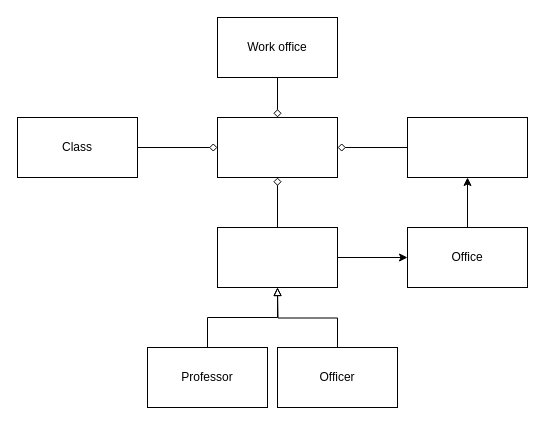
Some shapes in this 545 by 425 pixel diagram are drawn without their labels. The shapes that lost their labels are listed below. From the top down, each one's centre as x and y in pixels, then its label:
At pixel 277 147: "University".
At pixel 467 147: "Department".
At pixel 277 257: "Employee".
